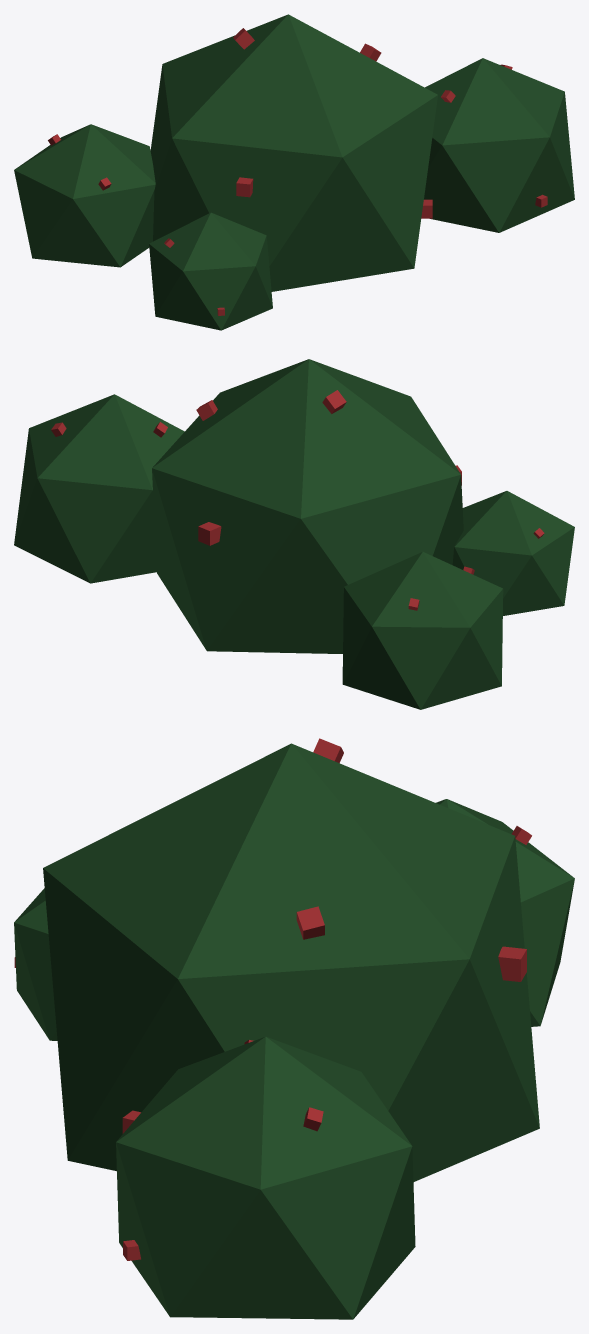
File: ForestBush(1).fbx
3 views of the same model, one above another, from view 1: azimuth 30°, elevation 25°; view 2: azimuth 150°, elevation 25°; view 3: azimuth 270°, elevation 25° (orthographic). The views are drawn at different scales.
Parts seen in each view (by area): view 1: ForestBush(1); view 2: ForestBush(1); view 3: ForestBush(1).
Part boxes in pixels (box(x1,y1,x2,y2)): ForestBush(1): box(14, 14, 574, 330); ForestBush(1): box(14, 359, 574, 709); ForestBush(1): box(14, 738, 574, 1319).
Size of the model in its own units: 3.33 by 1.45 by 2.
